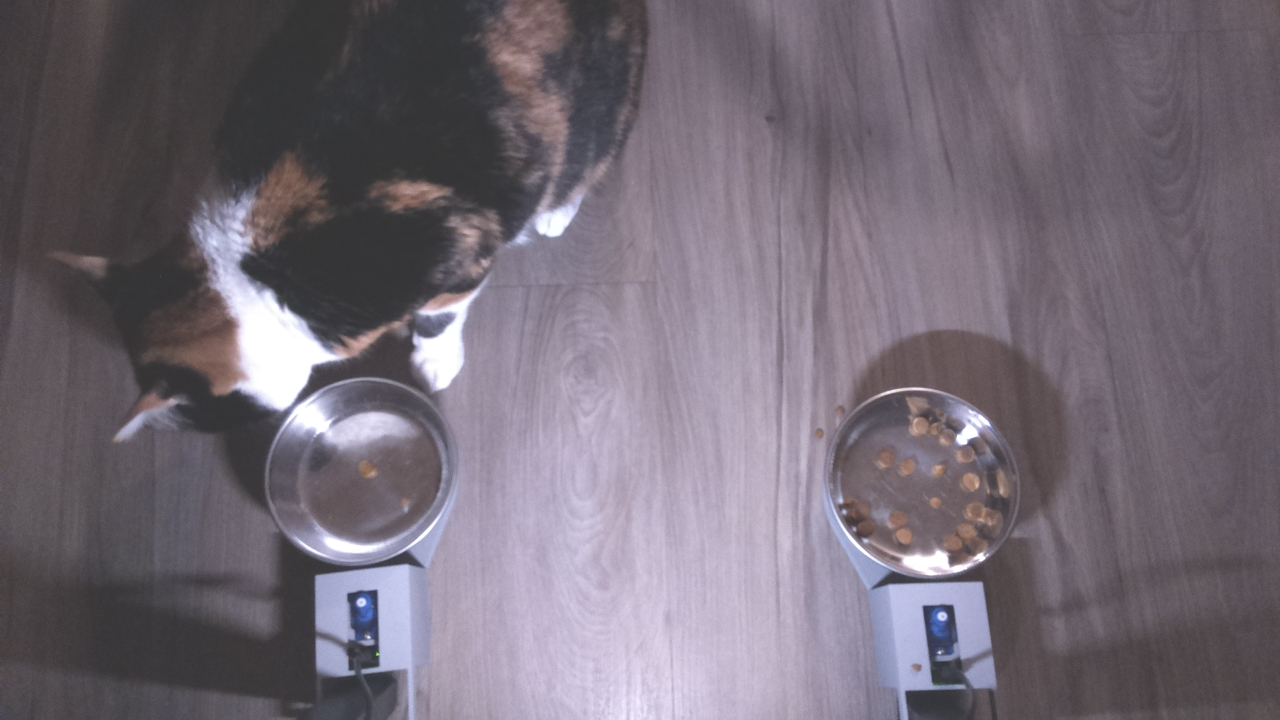bella: (26, 215, 320, 443)
open_bowl: (820, 383, 1030, 585), (261, 372, 455, 578)
